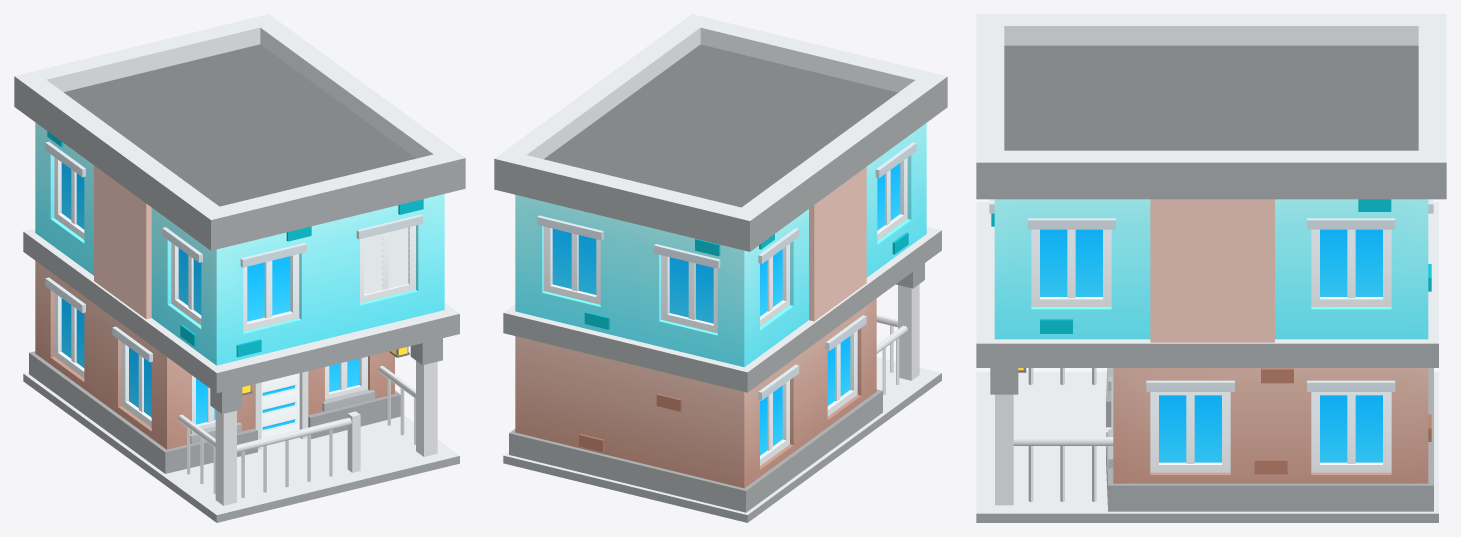
File: Building_Living_02.glb
The picture shows the model from 3 angles, left to right: view 1: azimuth 30°, elevation 25°; view 2: azimuth 150°, elevation 25°; view 3: azimuth 270°, elevation 25°; orthographic projection. The views are drawn at different scales.
Visible parts, largest first — view 1: Building_Living_02; view 2: Building_Living_02; view 3: Building_Living_02.
Part boxes in pixels (box(x1,y1,x2,y2)): Building_Living_02: box(14, 14, 465, 522); Building_Living_02: box(494, 14, 947, 522); Building_Living_02: box(976, 14, 1446, 522).
Size of the model in its own units: 6.86 by 7.83 by 9.18.
1 material, 1 textured.
